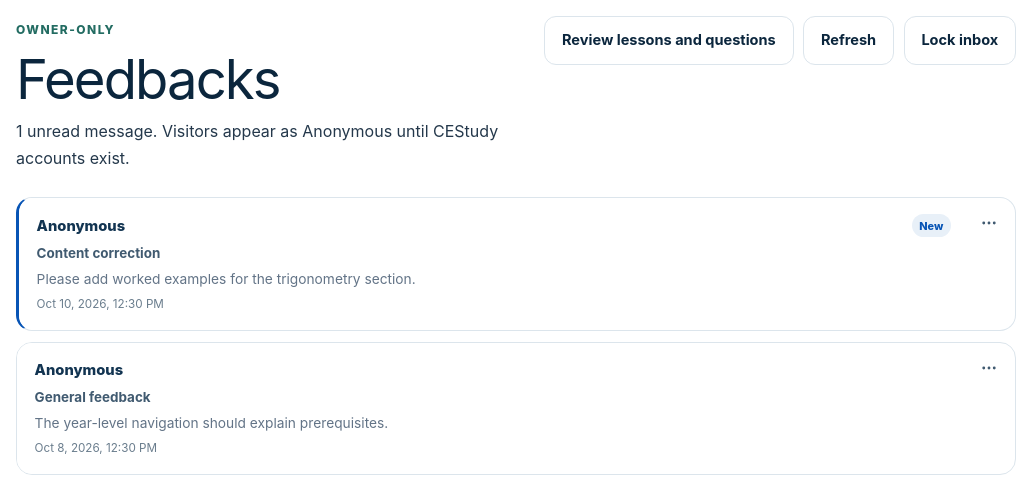
Test: owner-only feedback inbox › pins a message at the top and restores chronological order when unpinned
Click the 2nd button named "More feedback actions" at [989, 368], box [973,352,1005,384]
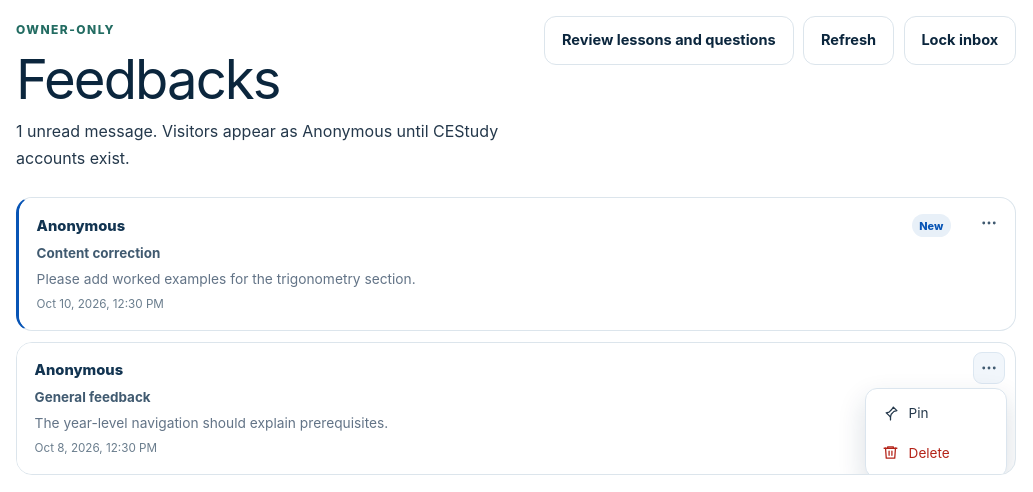
Click the menu item "Pin" at [936, 413], box [871,394,1001,433]
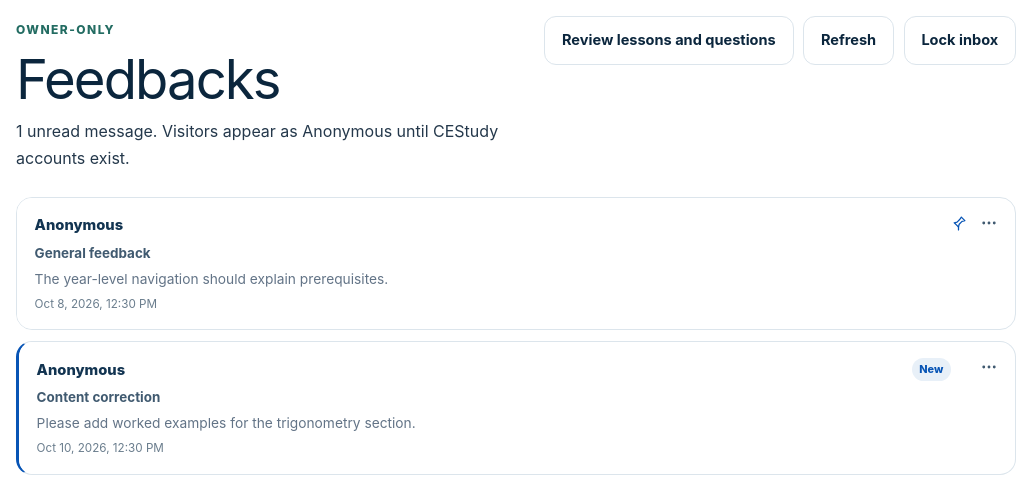
Expected: the text "The year-level navigation should explain prerequisites." is shown, [35,271,388,287]
Now the element named "Pinned feedback" is shown, box [950,215,966,232]
Click the 1st button named "More feedback actions" at [989, 223], box [973,207,1005,239]
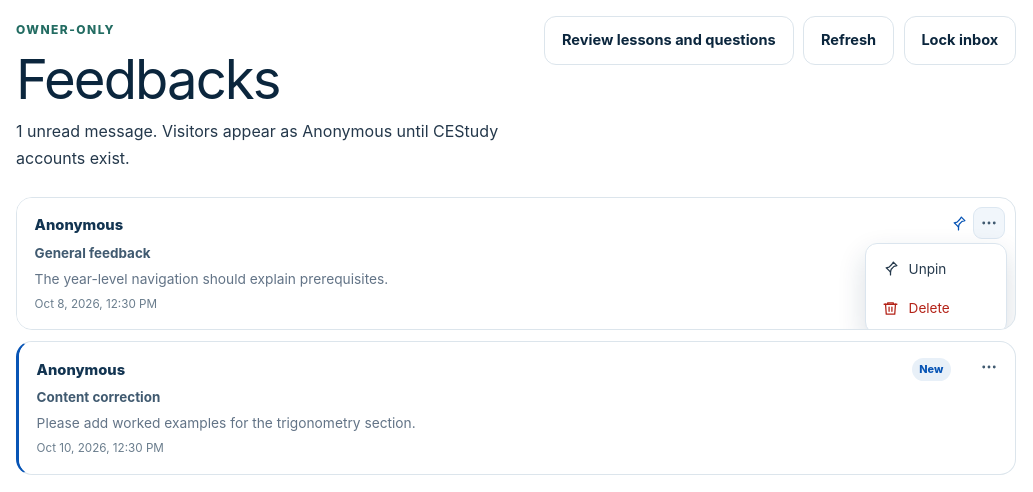
Click the menu item "Unpin" at [936, 269], box [871,249,1001,289]
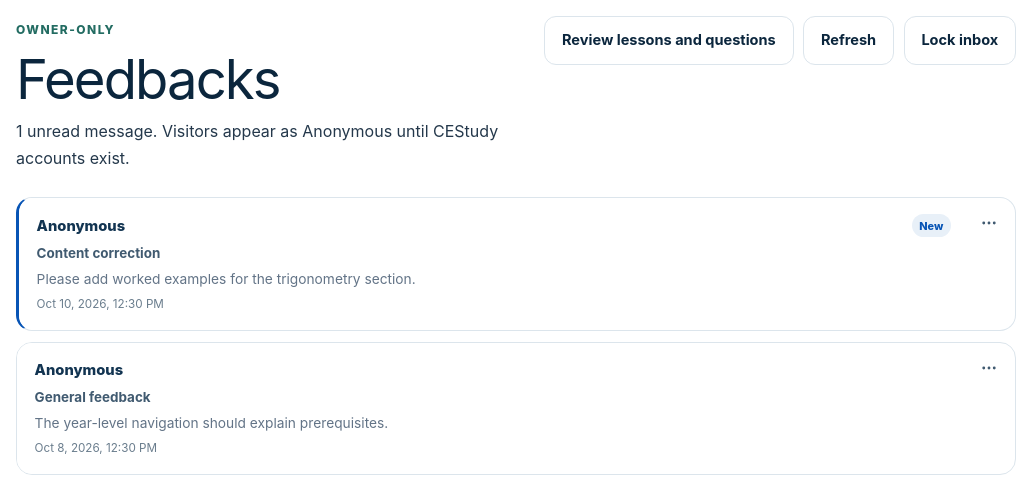
Expected: the text "Please add worked examples for the trigonometry section." is shown, [37,272,416,288]
Click the 2nd button named "More feedback actions" at [989, 368], box [973,352,1005,384]
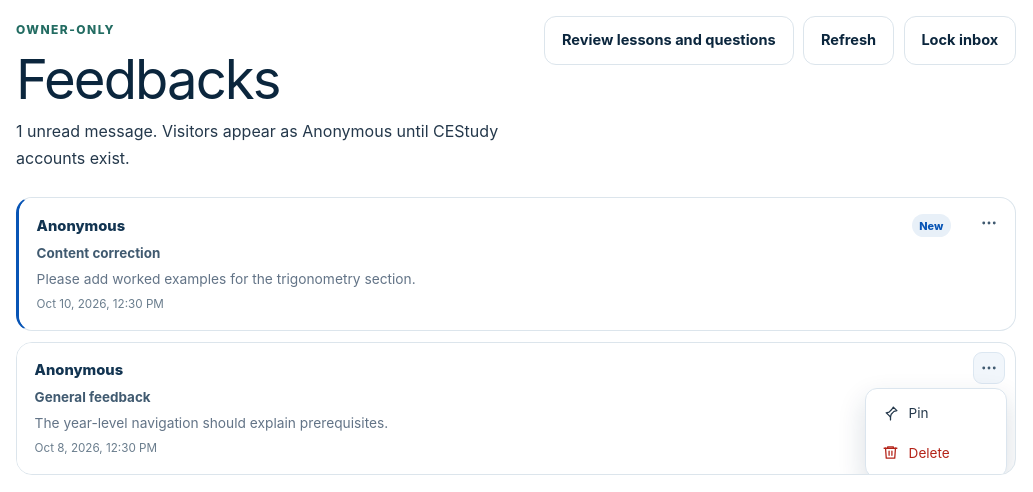
Now the menu item "Pin" is shown, box [871,394,1001,433]
